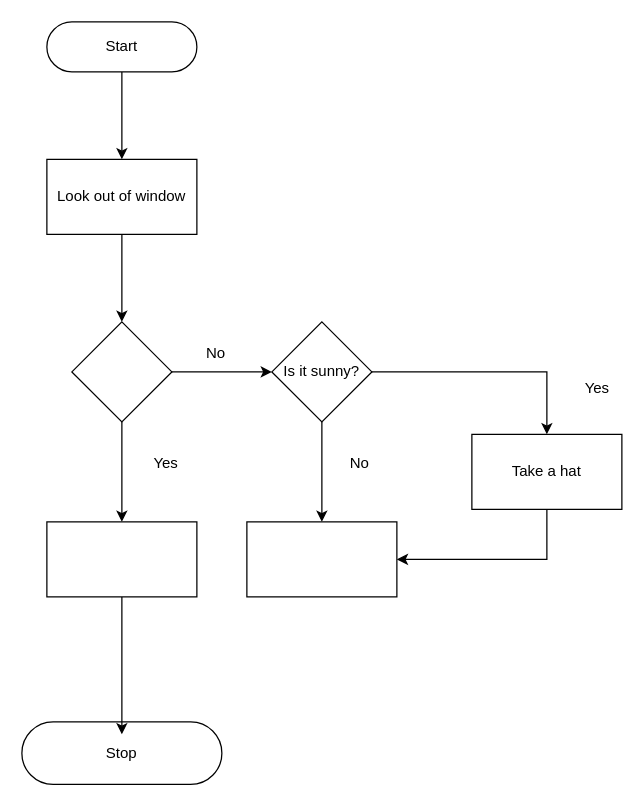
Some shapes in this 644 by 806 pixel diagram are drawn without their labels. Each missing label, with the centre of its shape:
"Do Chores" goes at [121,559].
"Is it raining?" goes at [121,371].
